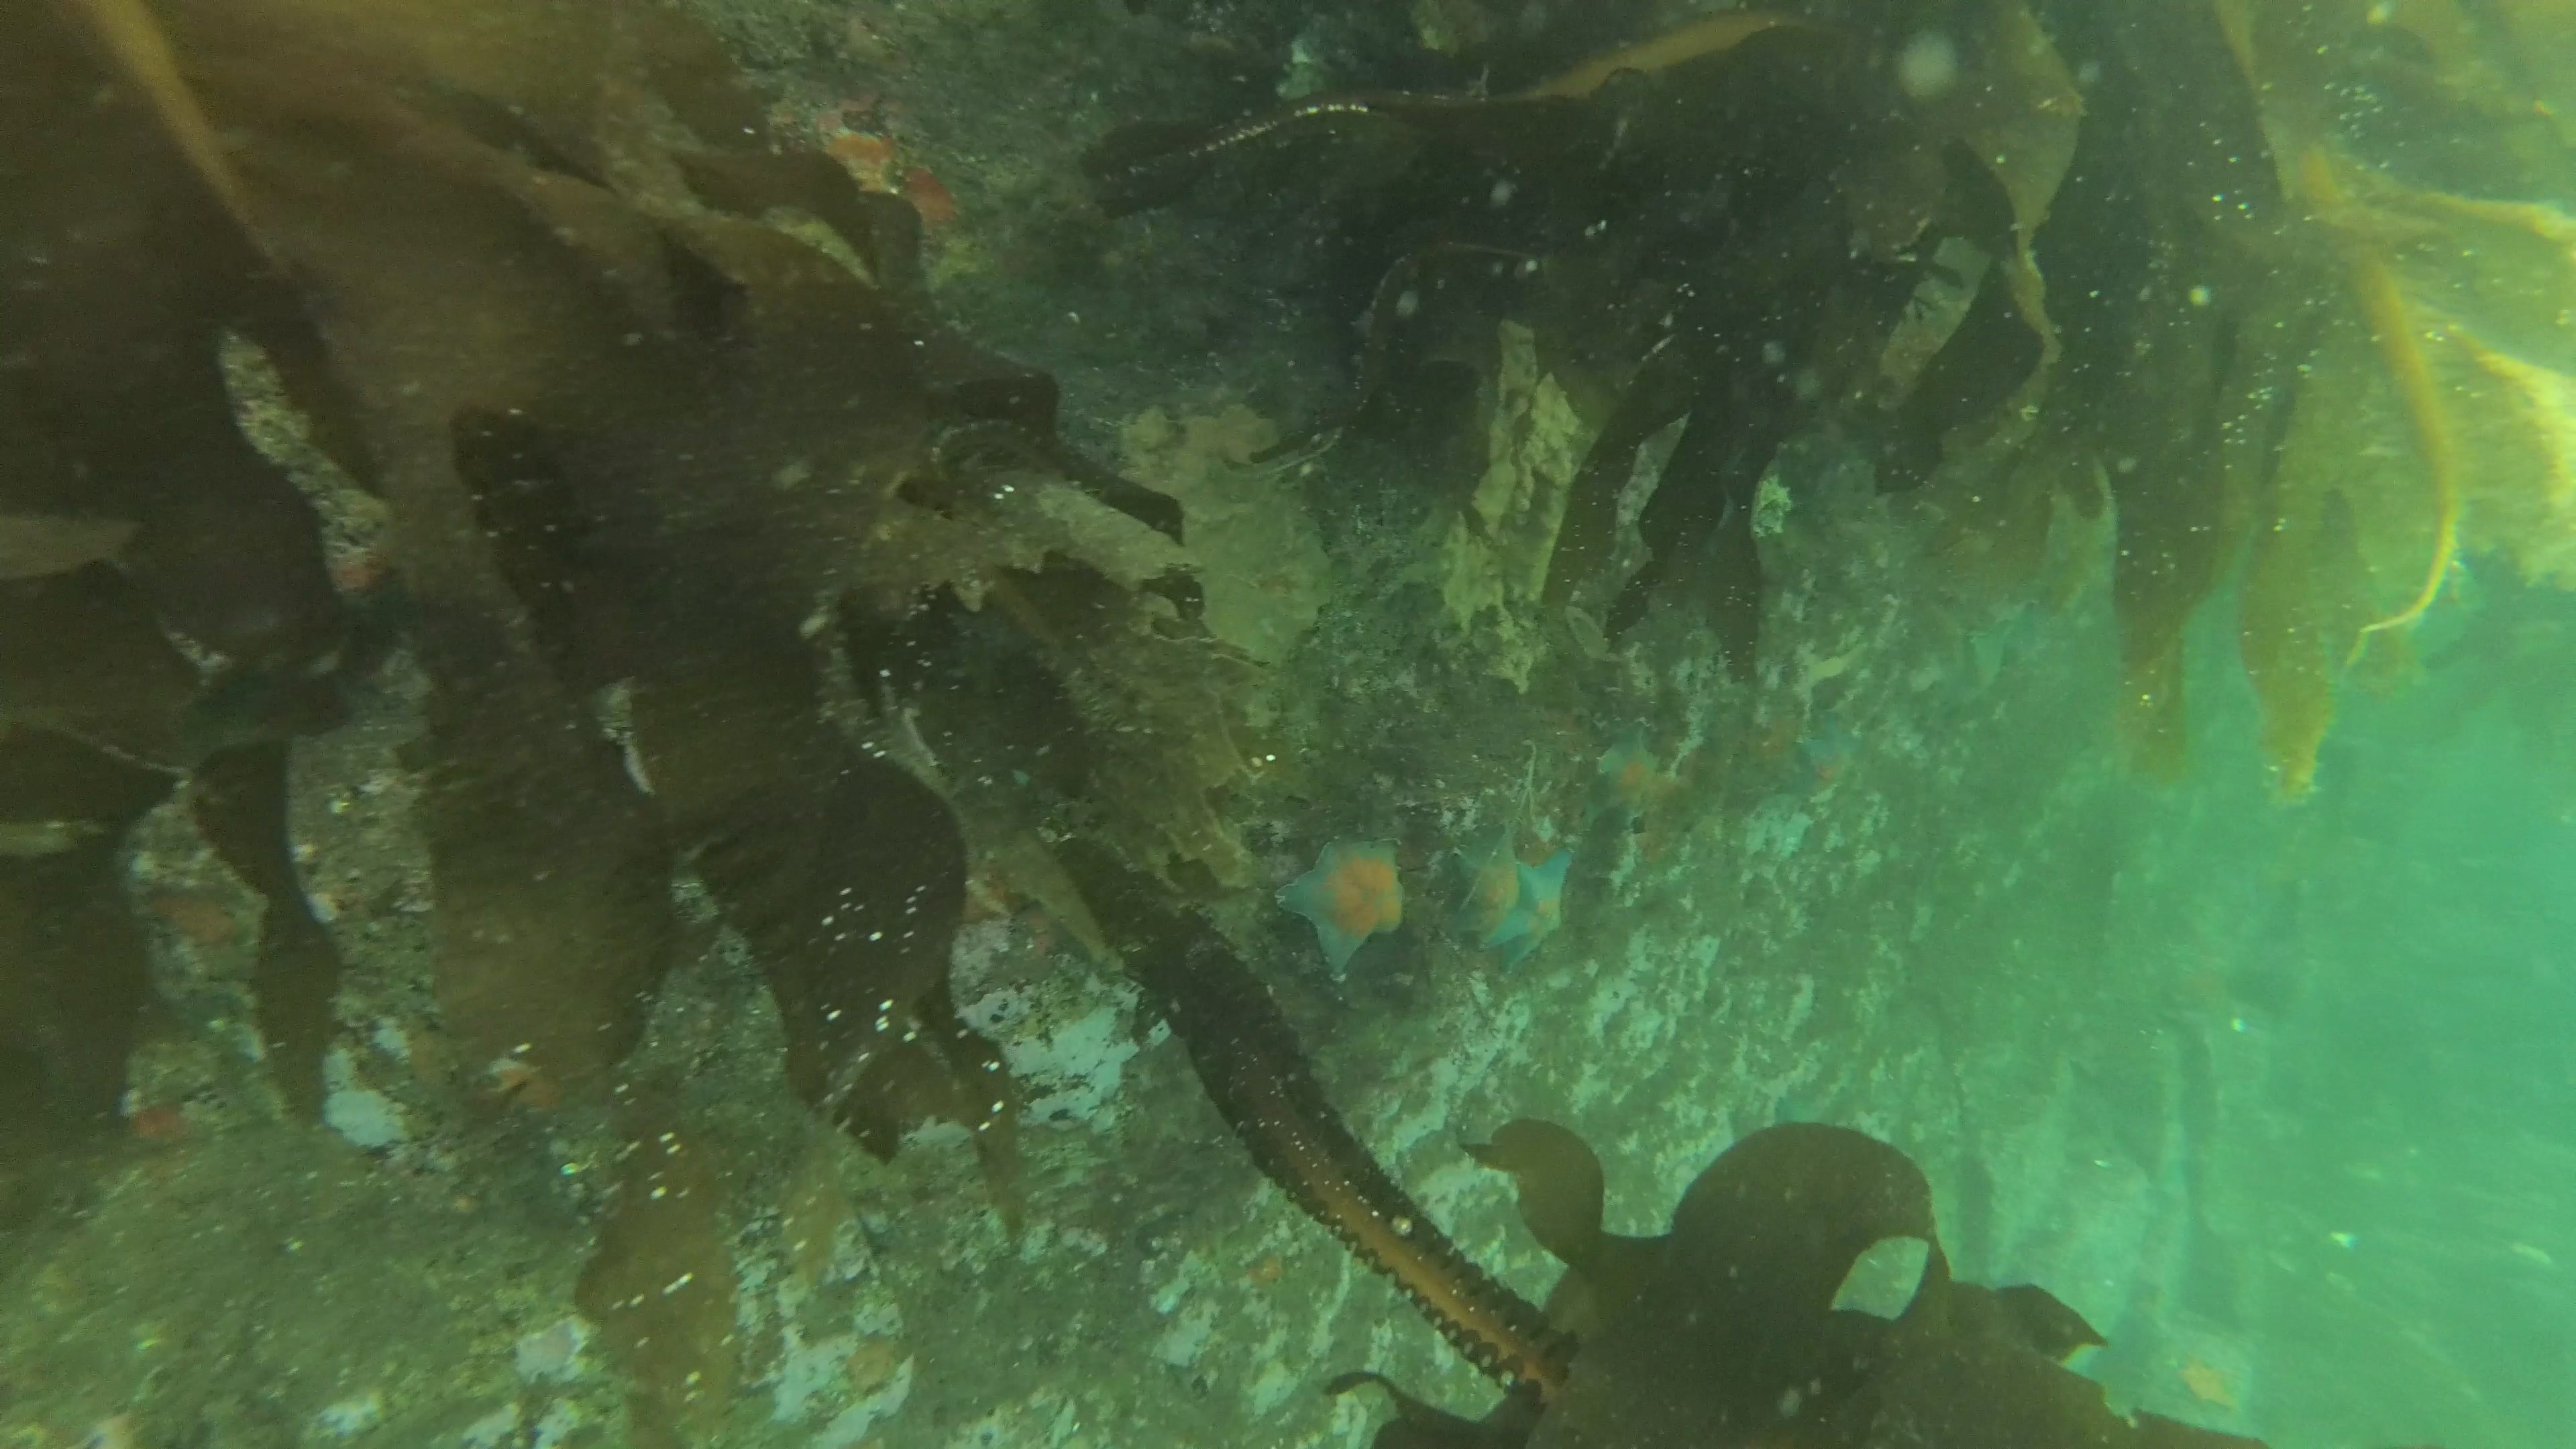starfish: (1276, 840, 1405, 975), (1476, 849, 1576, 973), (1591, 718, 1660, 828), (1456, 821, 1520, 939), (1799, 717, 1858, 803), (2180, 1357, 2238, 1408)
